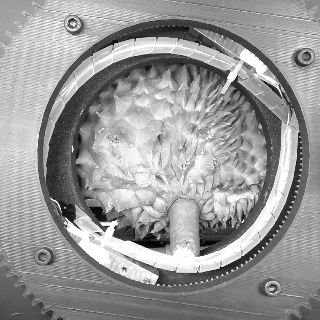base: (166, 194, 204, 220)
end: (172, 247, 196, 258)
